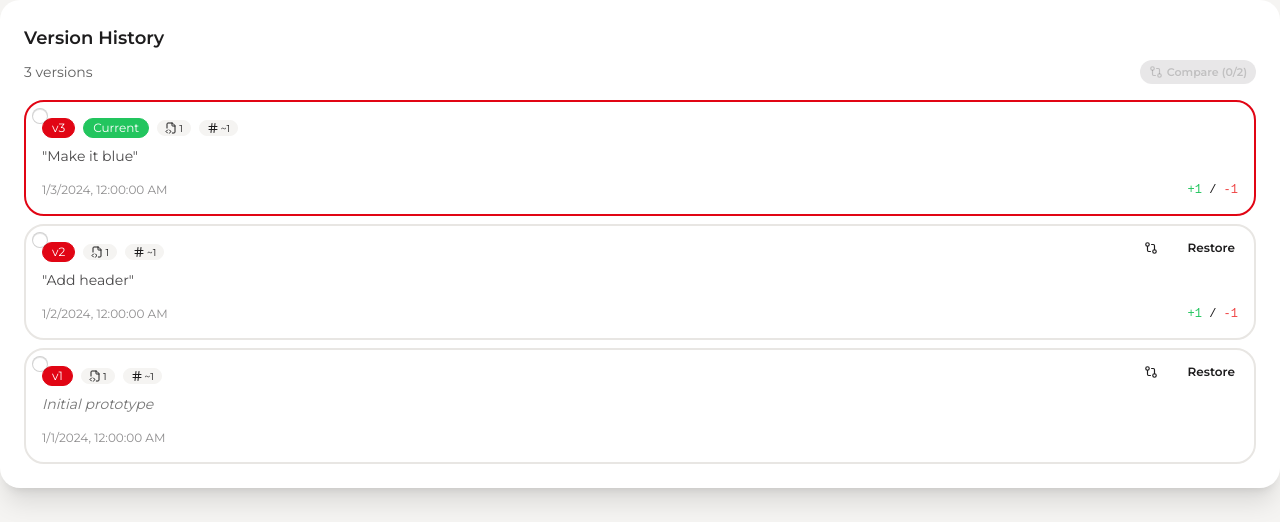
VersionHistoryPanel › Compare selection (Story 7.5) › clears selection when Clear button is clicked
This screenshot has width=1280, height=522.
// Select two versions
Click the checkbox with test id "compare-checkbox-proto-1".
click(40, 364)  # box [32,356,48,372]
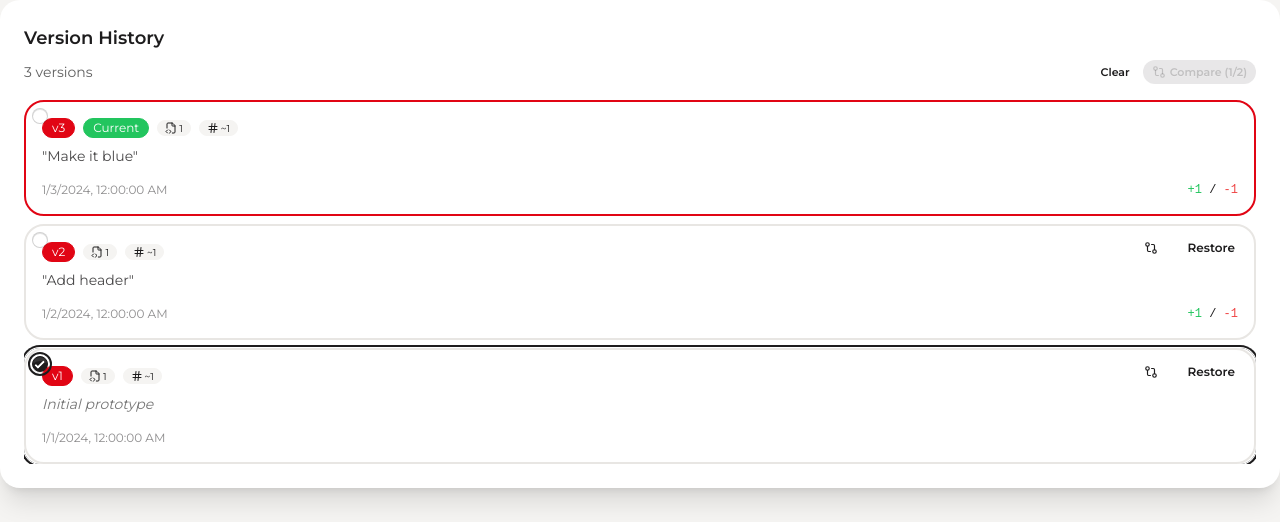
Click the checkbox with test id "compare-checkbox-proto-2".
click(40, 240)  # box [32,232,48,248]
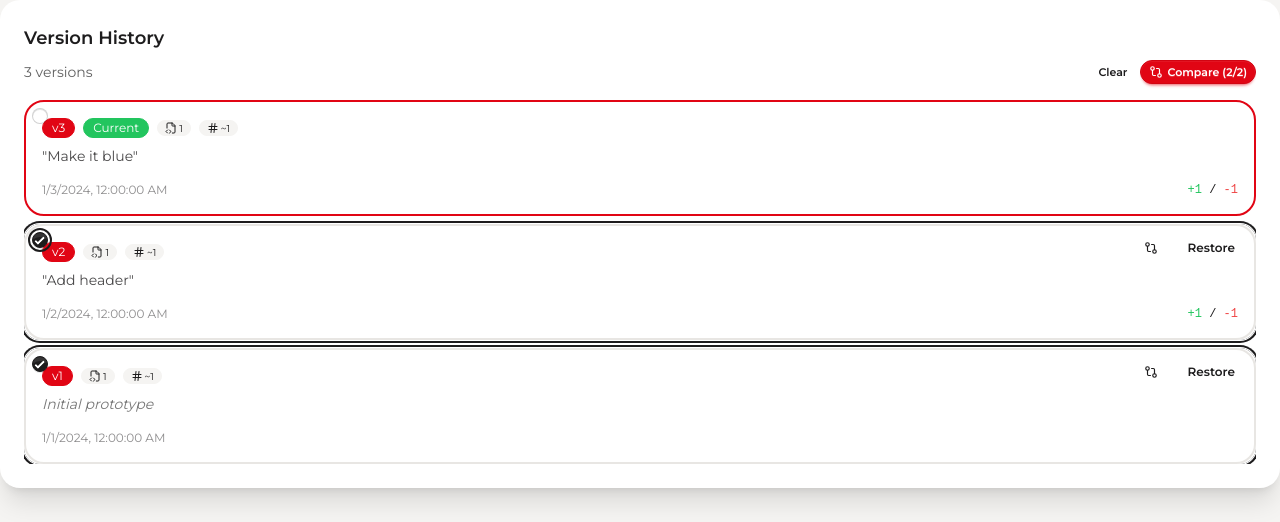
expect the button with test id "clear-compare-selection" is shown: met
Click the button with test id "clear-compare-selection".
click(1113, 72)  # box [1089,60,1136,84]
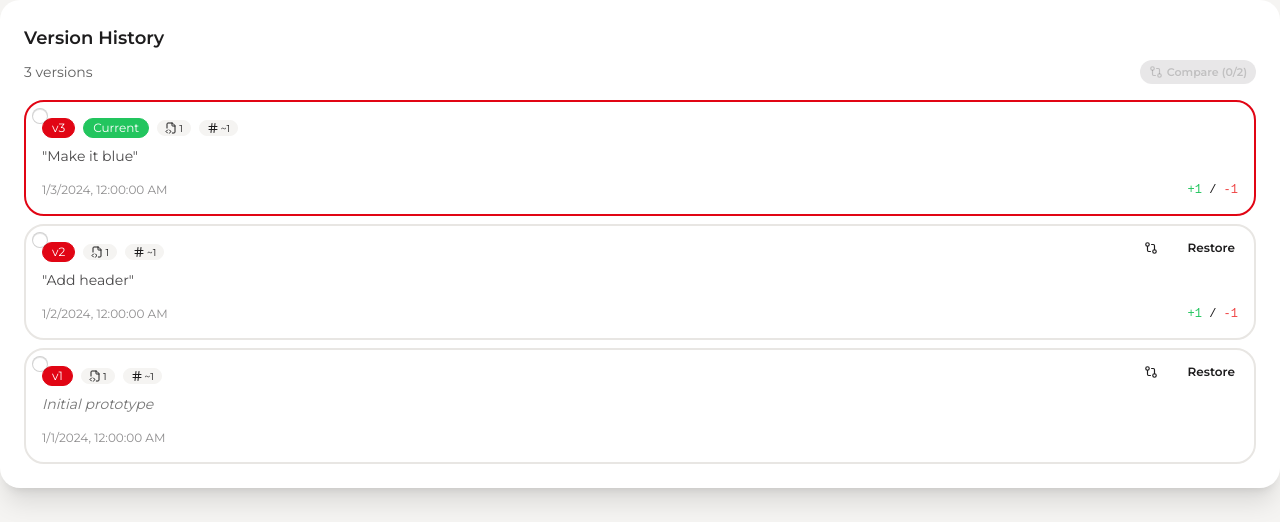
expect the button with test id "compare-selected-btn" reads "Compare (0/2)": met, box [1140,60,1256,84]
